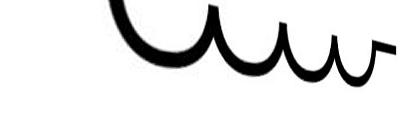inductor: (84, 1, 390, 96)
